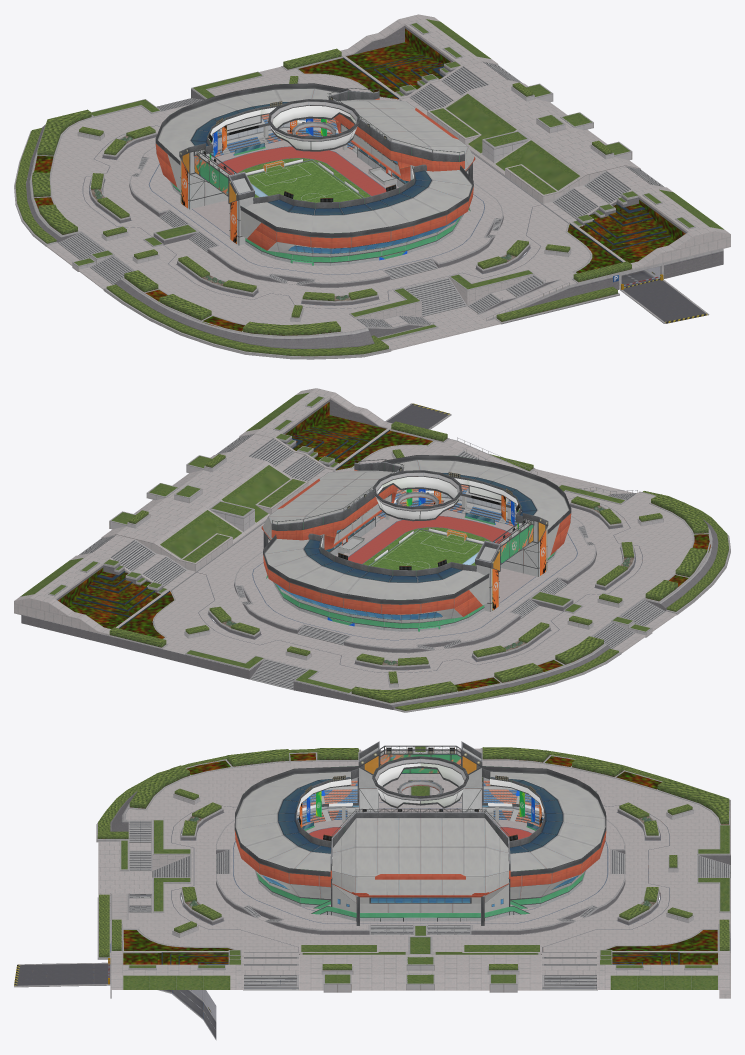
Rendered from stadium.glb.
3 views of the same model, one above another, from view 1: azimuth 30°, elevation 25°; view 2: azimuth 150°, elevation 25°; view 3: azimuth 270°, elevation 25° (orthographic). The views are drawn at different scales.
Visible parts, largest first — view 1: GB_GP_INR_Building002_LOD0.022_0; view 2: GB_GP_INR_Building002_LOD0.022_0; view 3: GB_GP_INR_Building002_LOD0.022_0.
Part boxes in pixels (bbox=[...]): GB_GP_INR_Building002_LOD0.022_0: bbox=[14, 14, 730, 359]; GB_GP_INR_Building002_LOD0.022_0: bbox=[14, 388, 730, 712]; GB_GP_INR_Building002_LOD0.022_0: bbox=[14, 741, 730, 1040].
Bounding box in the file's own units: 172 × 41.66 × 199.
Materials: 1 (1 with a texture image).
